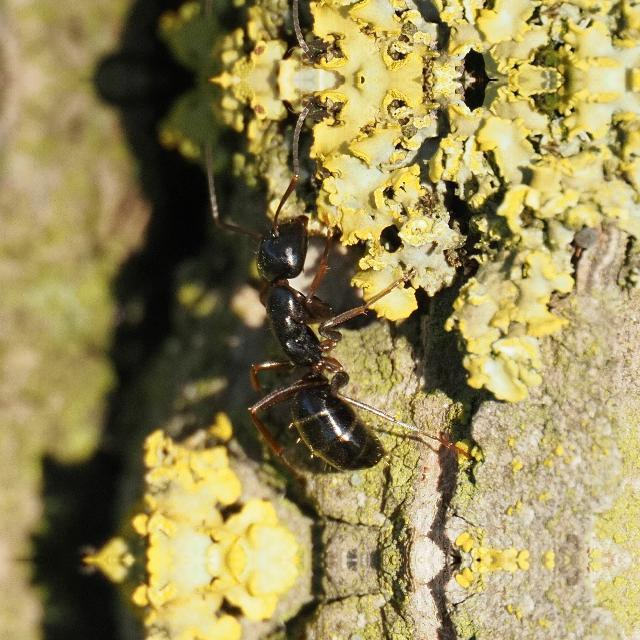Camponotus: (197, 182, 419, 494)
